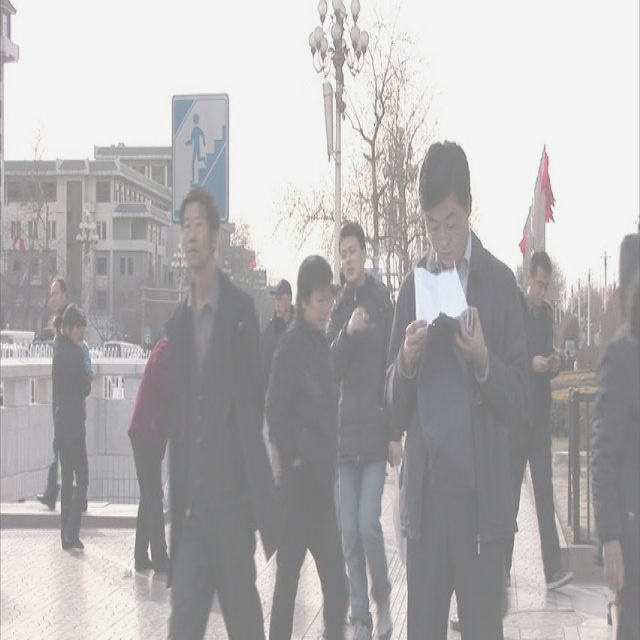pessoa: (376, 136, 540, 639), (160, 182, 288, 638), (264, 252, 349, 639), (324, 220, 399, 639), (500, 248, 576, 599), (588, 225, 640, 639), (128, 301, 192, 575), (49, 301, 91, 551), (34, 274, 68, 514), (52, 306, 94, 436), (258, 276, 298, 392), (328, 270, 346, 310), (130, 336, 160, 354), (448, 606, 466, 630), (564, 349, 577, 374)
